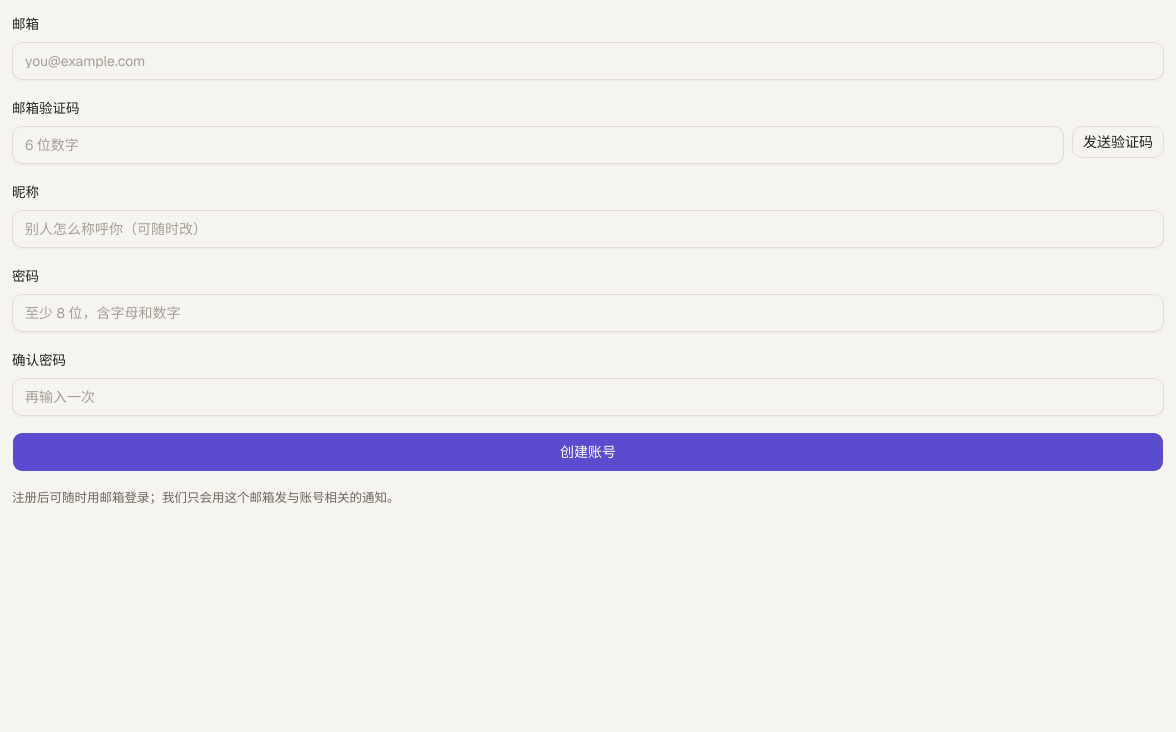
Scenario: 注册表单 › 发送验证码失败时展示错误原因
This screenshot has width=1176, height=732.
Step 1. Type "ming@example.com" into the field labelled "邮箱" → (588, 61), box top-left (12, 42), bottom-right (1164, 80)
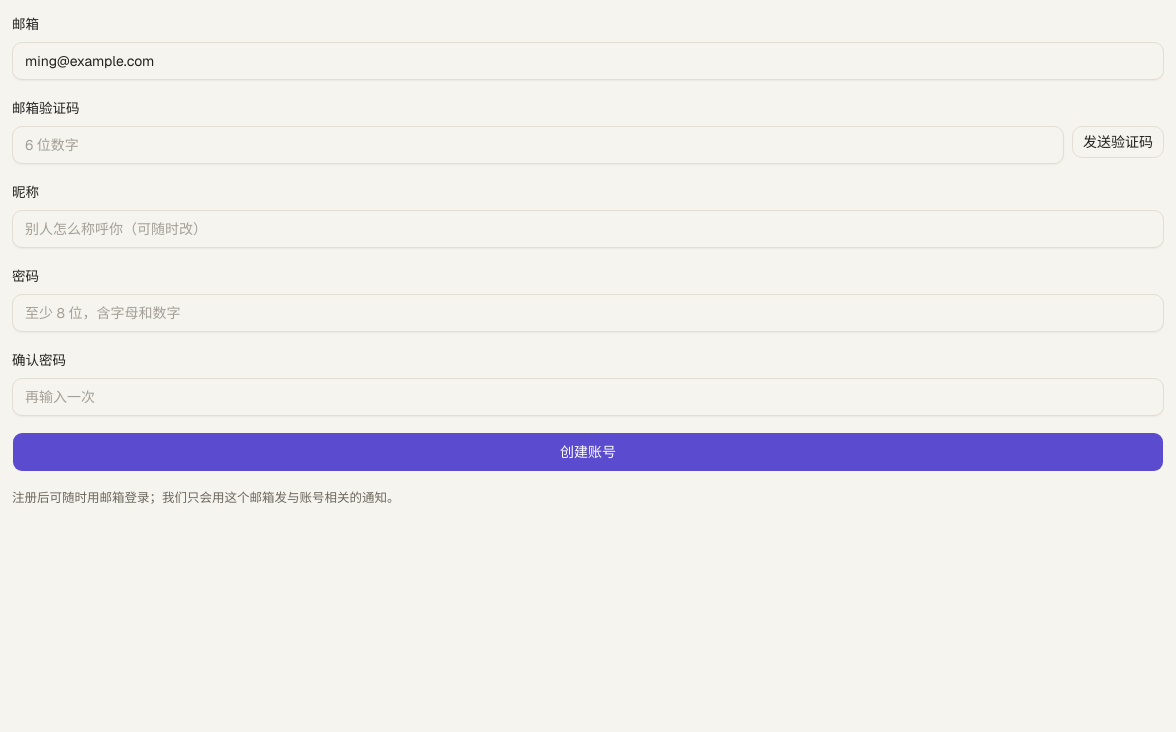
Step 2. Click the button "发送验证码" → (1118, 142), box top-left (1072, 126), bottom-right (1164, 158)
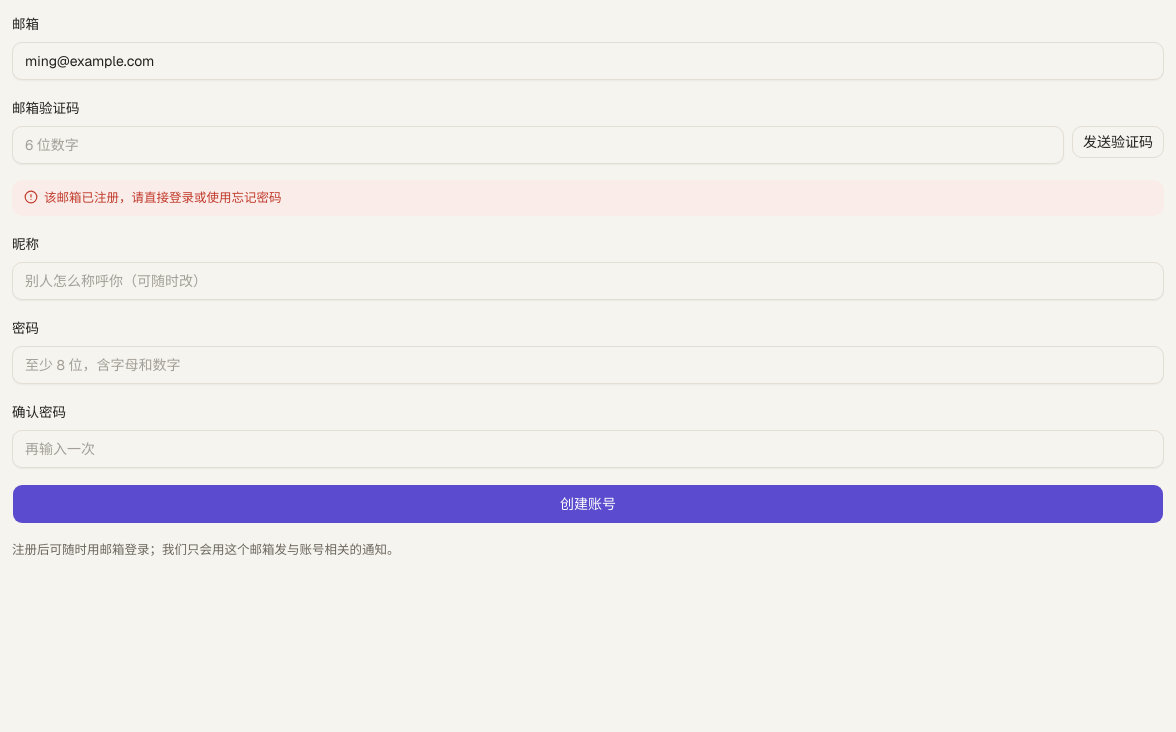
Check: the message shows "已注册", box top-left (12, 180), bottom-right (1164, 216)
